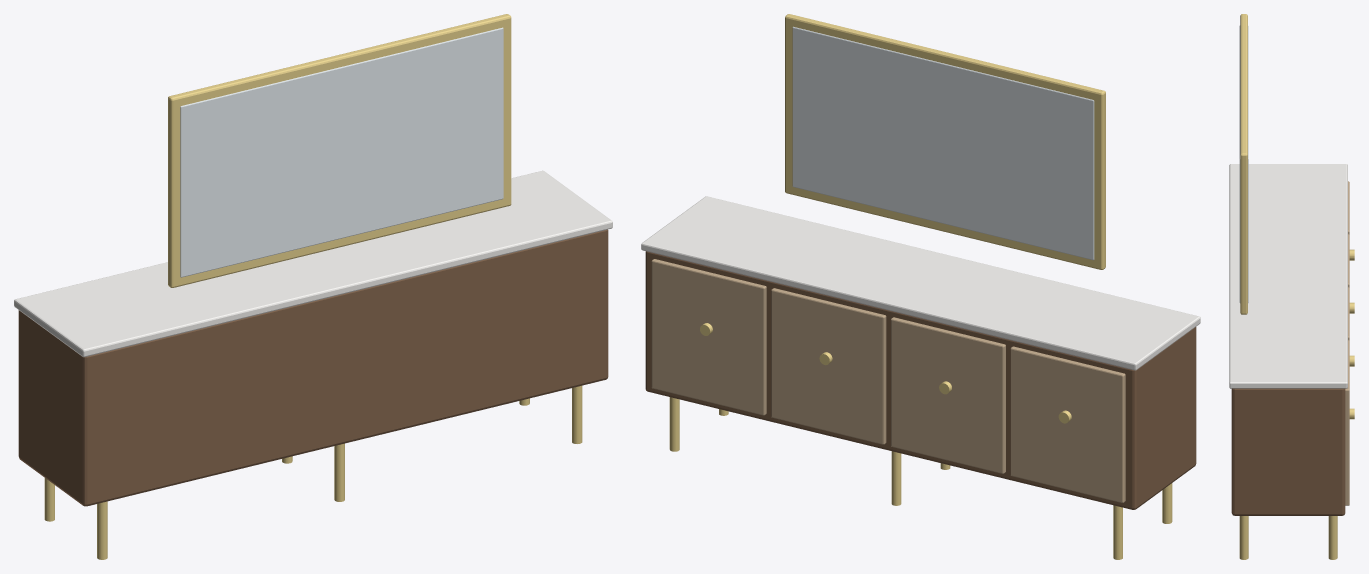
The model's file is konsol.glb.
3 views of the same model, side by side, from view 1: azimuth 30°, elevation 25°; view 2: azimuth 150°, elevation 25°; view 3: azimuth 270°, elevation 25° (orthographic). The views are drawn at different scales.
Parts seen in each view (by area): view 1: Con_Body, Con_Mirror_Glass, Con_Top, Con_Mirror_Frame; view 2: Con_Mirror_Glass, Con_Top, Con_Body, Con_Door_0, Con_Door_2, Con_Door_3, Con_Door_1, Con_Mirror_Frame; view 3: Con_Top, Con_Body, Con_Mirror_Frame, Con_Mirror_Glass, Con_Door_3, Con_Leg.004, Con_Leg.005.
Part boxes in pixels (x1,y1,x2,y2): Con_Body: (18,229,608,506); Con_Mirror_Glass: (180,27,503,277); Con_Top: (14,170,612,357); Con_Mirror_Frame: (168,14,511,287); Con_Mirror_Glass: (792,26,1094,260); Con_Top: (641,196,1200,370); Con_Body: (645,251,1196,509); Con_Door_0: (1010,346,1125,502); Con_Door_2: (771,288,886,444); Con_Door_3: (651,259,766,415); Con_Door_1: (891,317,1005,473); Con_Mirror_Frame: (785,14,1105,269); Con_Top: (1229,164,1347,388); Con_Body: (1231,388,1345,515); Con_Mirror_Frame: (1240,14,1247,314); Con_Mirror_Glass: (1239,25,1248,302); Con_Door_3: (1345,340,1349,505); Con_Leg.004: (1239,516,1248,559); Con_Leg.005: (1328,516,1337,559).
Size of the model in its own units: 2.1 by 1.68 by 0.5075.
